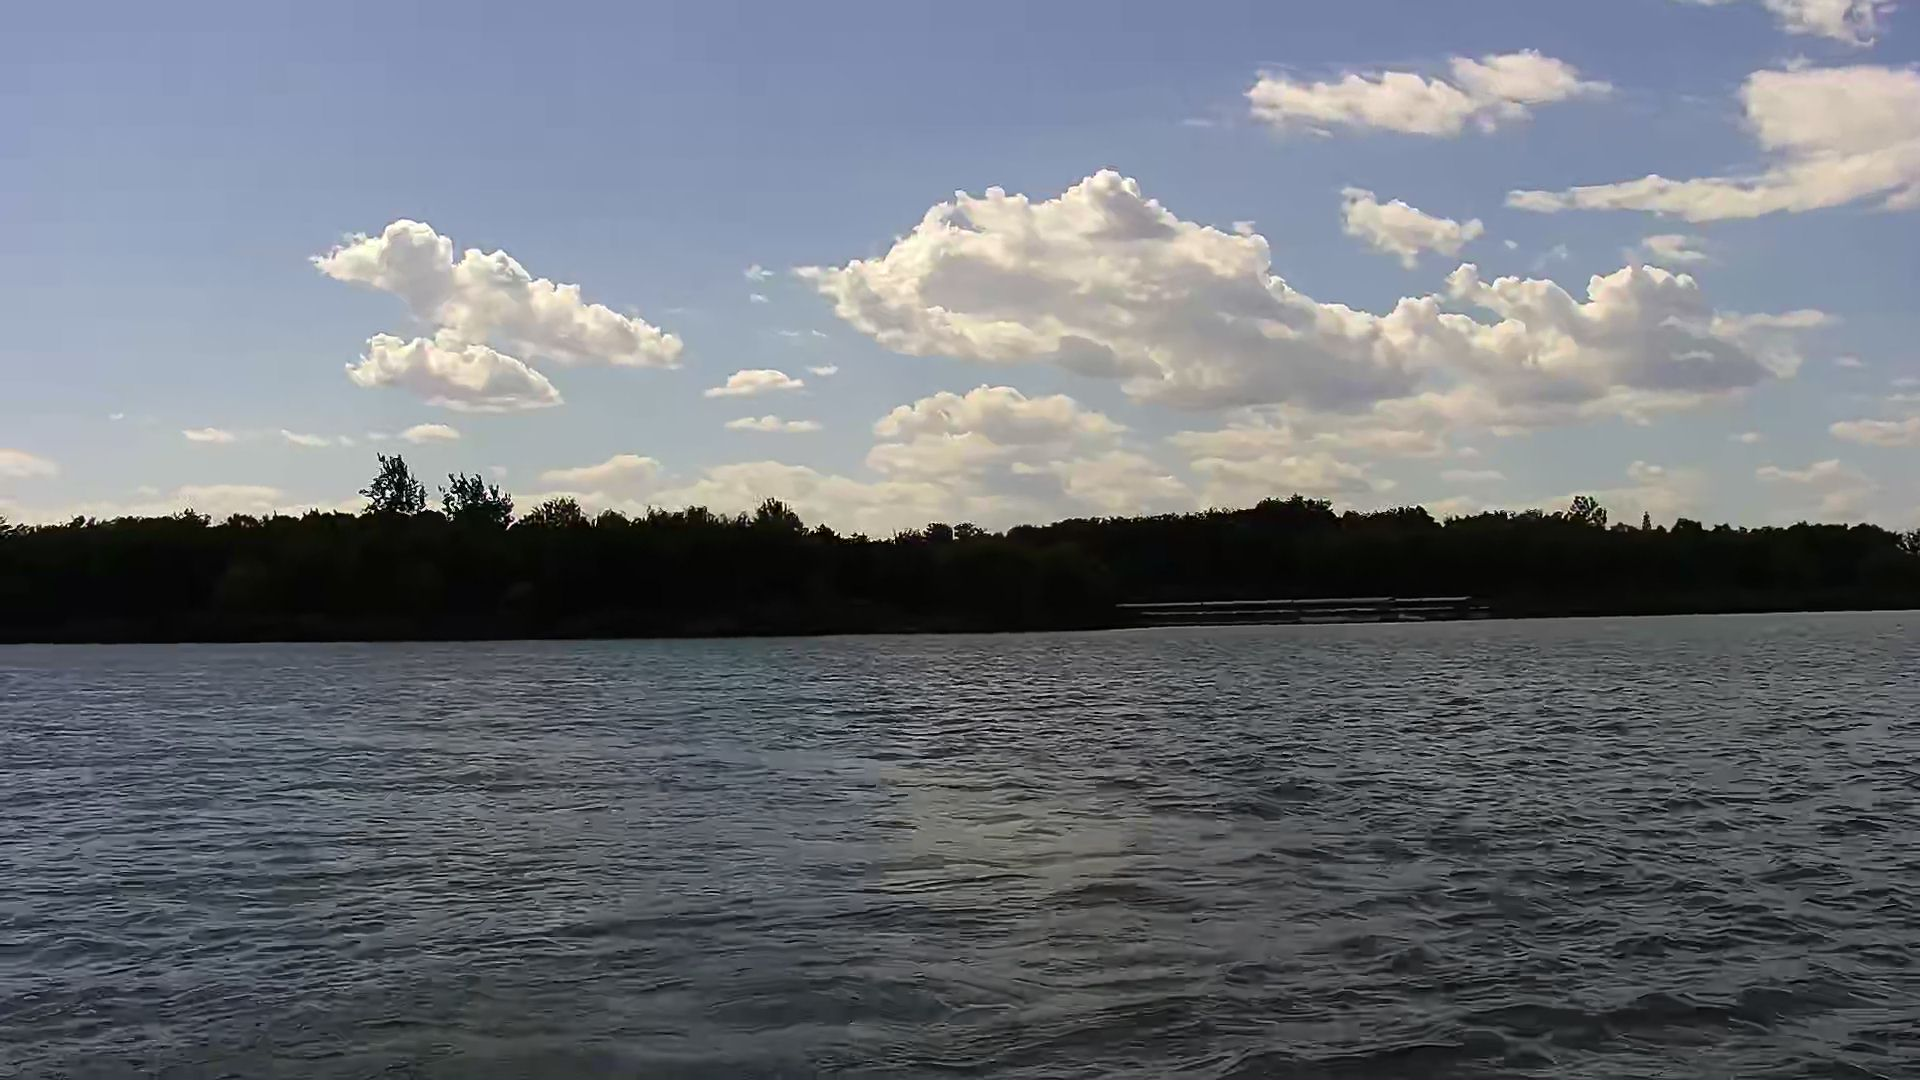harbor: (1120, 596, 1486, 629)
